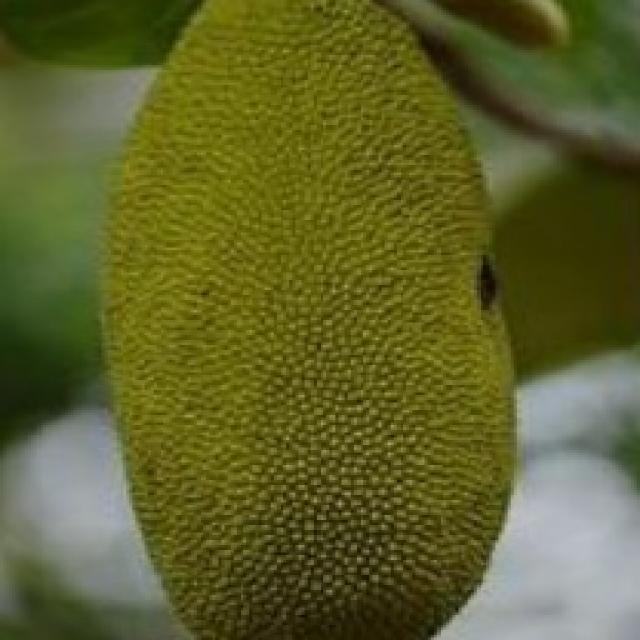Fruit: (138, 0, 554, 338), (267, 247, 572, 640)
